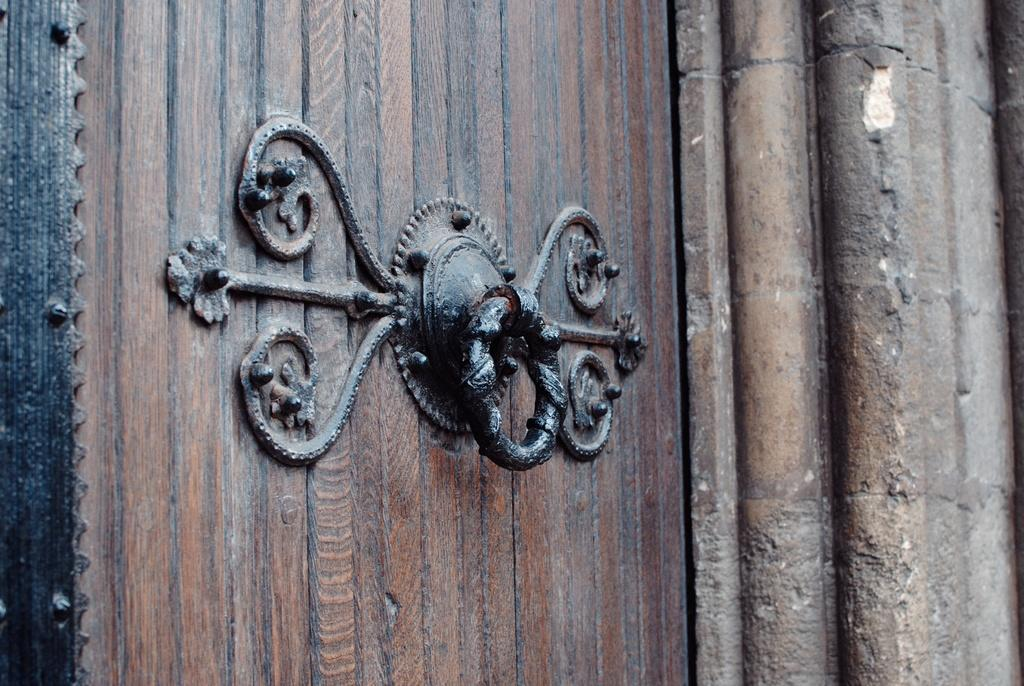handle: (466, 278, 574, 485)
